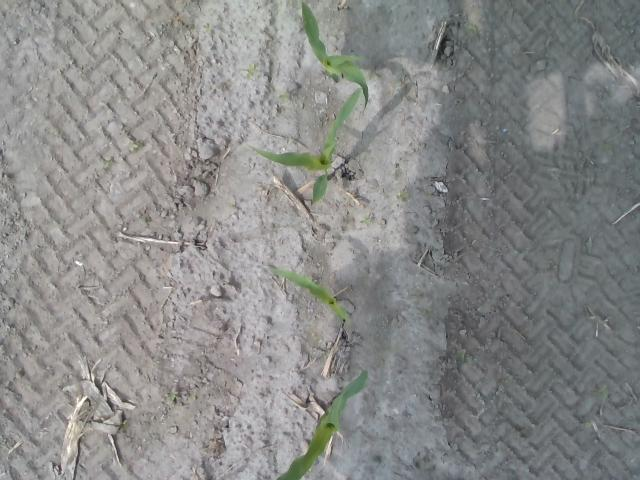Maize: (248, 87, 364, 208), (276, 366, 369, 480), (298, 2, 368, 112), (270, 268, 352, 326)
Weeds: (244, 63, 256, 80), (129, 142, 142, 154), (360, 215, 372, 226), (164, 392, 176, 402)
